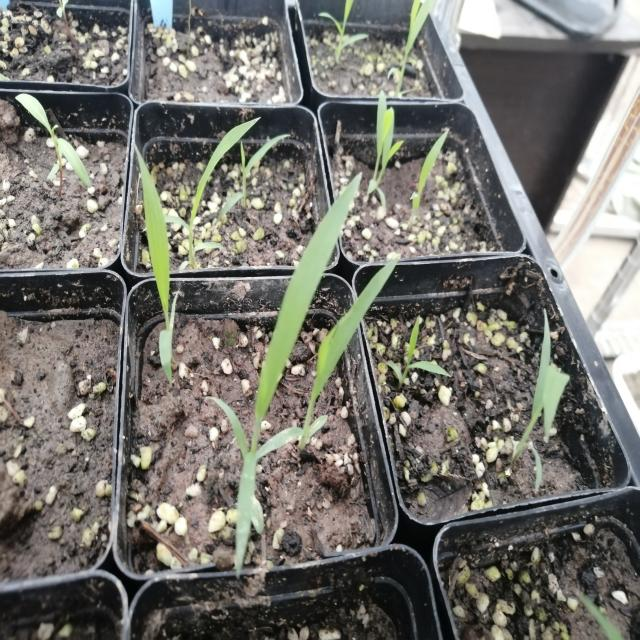crabgrass: (234, 176, 389, 501), (106, 136, 196, 390)
